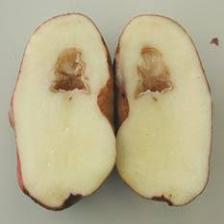Diseased-fungal potato: (9, 9, 117, 211), (114, 12, 218, 213)
